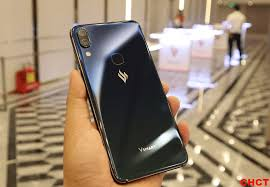vsmart: (68, 17, 191, 182)
